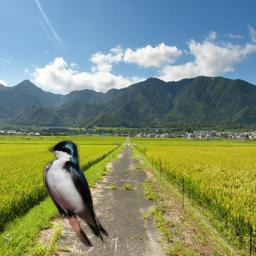Swallow: (42, 139, 109, 247)
